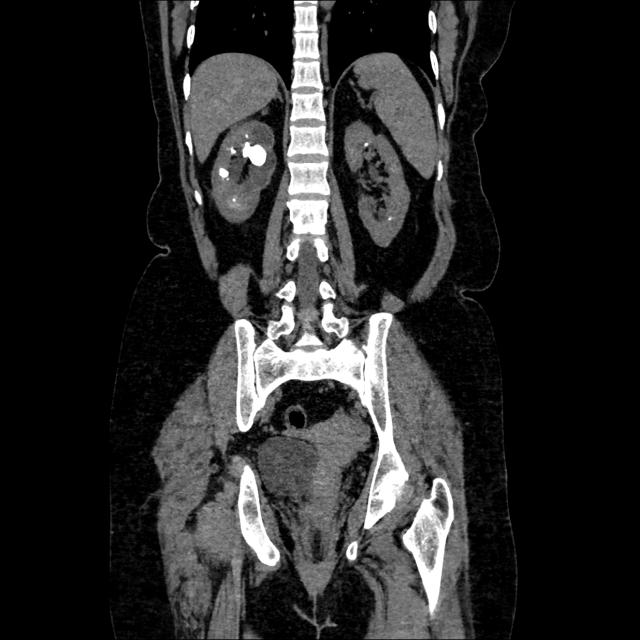kidney: (342, 117, 416, 250), (210, 123, 274, 234)
stone: (241, 138, 268, 167), (219, 165, 230, 180), (362, 138, 368, 154)
